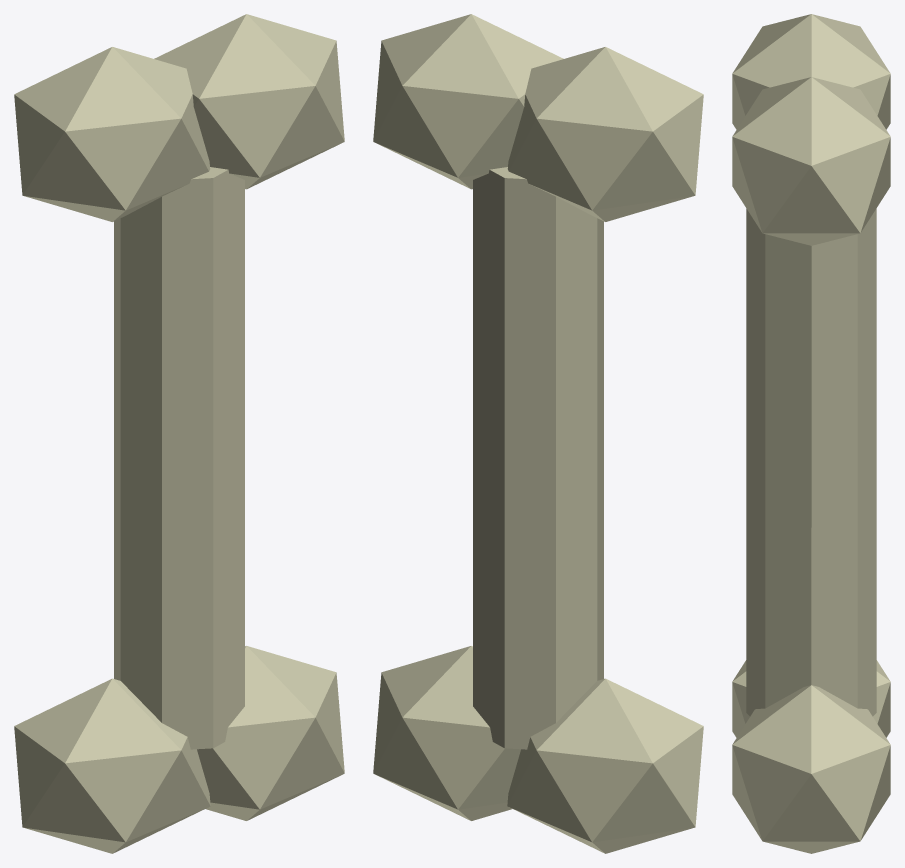
File: SH10_Bone.fbx
3 renders of one model, left to right at view 1: azimuth 30°, elevation 25°; view 2: azimuth 150°, elevation 25°; view 3: azimuth 270°, elevation 25°, orthographic. The views are drawn at different scales.
Visible parts, largest first — view 1: SH10_Bone; view 2: SH10_Bone; view 3: SH10_Bone.
Boxes of the visible parts, box(x1,y1,x2,y2) form: SH10_Bone: box(14, 14, 344, 853); SH10_Bone: box(373, 14, 703, 853); SH10_Bone: box(732, 14, 890, 853).
Size of the model in its own units: 37.47 by 92 by 17.01.
